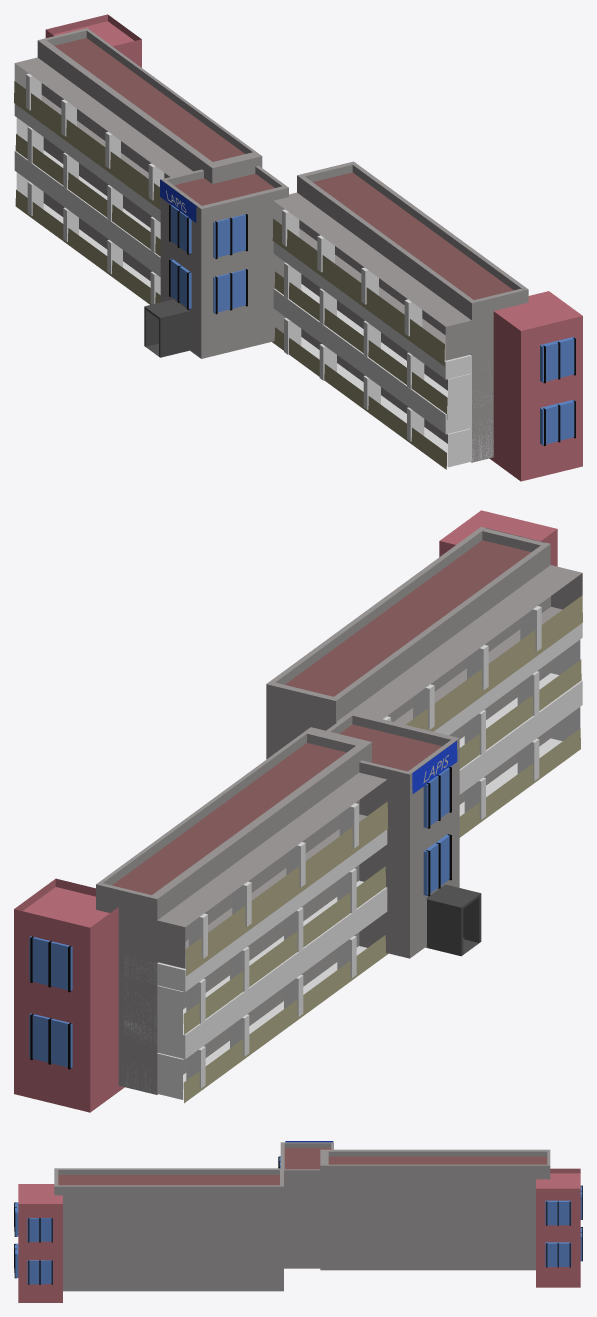
Rendered from lapis.glb.
3 views of the same model, one above another, from view 1: azimuth 30°, elevation 25°; view 2: azimuth 150°, elevation 25°; view 3: azimuth 270°, elevation 25° (orthographic). The views are drawn at different scales.
Visible parts, largest first — view 1: Cube.002, Cube, Cube.001, Cube.003, Cube.024, Cube.009, Cube.004, Plane.004, Cube.006, Plane.001, Plane.005, Plane.006 (+16 smaller); view 2: Cube.001, Cube.002, Cube.040, Cube, Cube.024, Cube.009, Cube.006, Plane.001, Plane.004, Plane.003, Cube.008, Plane.002 (+14 smaller); view 3: Cube.002, Cube.001, Cube, Cube.003, Cube.040, Cube.054, Cube.049, Cube.055, Cube.053.
Part boxes in pixels (x1=…): Cube.002: x1=297, y1=161, x2=528, y2=462; Cube: x1=160, y1=165, x2=288, y2=358; Cube.001: x1=37, y1=28, x2=262, y2=280; Cube.003: x1=489, y1=291, x2=582, y2=481; Cube.024: x1=274, y1=192, x2=493, y2=360; Cube.009: x1=14, y1=57, x2=192, y2=178; Cube.004: x1=273, y1=284, x2=493, y2=434; Plane.004: x1=272, y1=218, x2=444, y2=366; Cube.006: x1=14, y1=150, x2=160, y2=276; Plane.001: x1=14, y1=81, x2=160, y2=209; Plane.005: x1=274, y1=271, x2=447, y2=419; Plane.006: x1=272, y1=327, x2=446, y2=469; Cube.001: x1=96, y1=727, x2=371, y2=1094; Cube.002: x1=266, y1=527, x2=550, y2=804; Cube.040: x1=14, y1=878, x2=124, y2=1112; Cube: x1=326, y1=712, x2=459, y2=958; Cube.024: x1=298, y1=565, x2=582, y2=735; Cube.009: x1=124, y1=772, x2=386, y2=968; Cube.006: x1=124, y1=880, x2=387, y2=1059; Plane.001: x1=185, y1=801, x2=388, y2=976; Plane.004: x1=405, y1=595, x2=582, y2=731; Plane.003: x1=183, y1=935, x2=388, y2=1103; Cube.008: x1=124, y1=829, x2=387, y2=991; Plane.002: x1=183, y1=866, x2=385, y2=1034; Cube.002: x1=54, y1=1168, x2=283, y2=1291; Cube.001: x1=320, y1=1149, x2=550, y2=1270; Cube: x1=280, y1=1142, x2=333, y2=1268; Cube.003: x1=18, y1=1184, x2=62, y2=1302; Cube.040: x1=536, y1=1168, x2=580, y2=1287; Cube.054: x1=545, y1=1200, x2=571, y2=1225; Cube.049: x1=545, y1=1242, x2=571, y2=1266; Cube.055: x1=27, y1=1260, x2=52, y2=1284; Cube.053: x1=27, y1=1218, x2=52, y2=1242.
Bounding box in the file's own units: 9.17 × 6.73 × 32.14.
